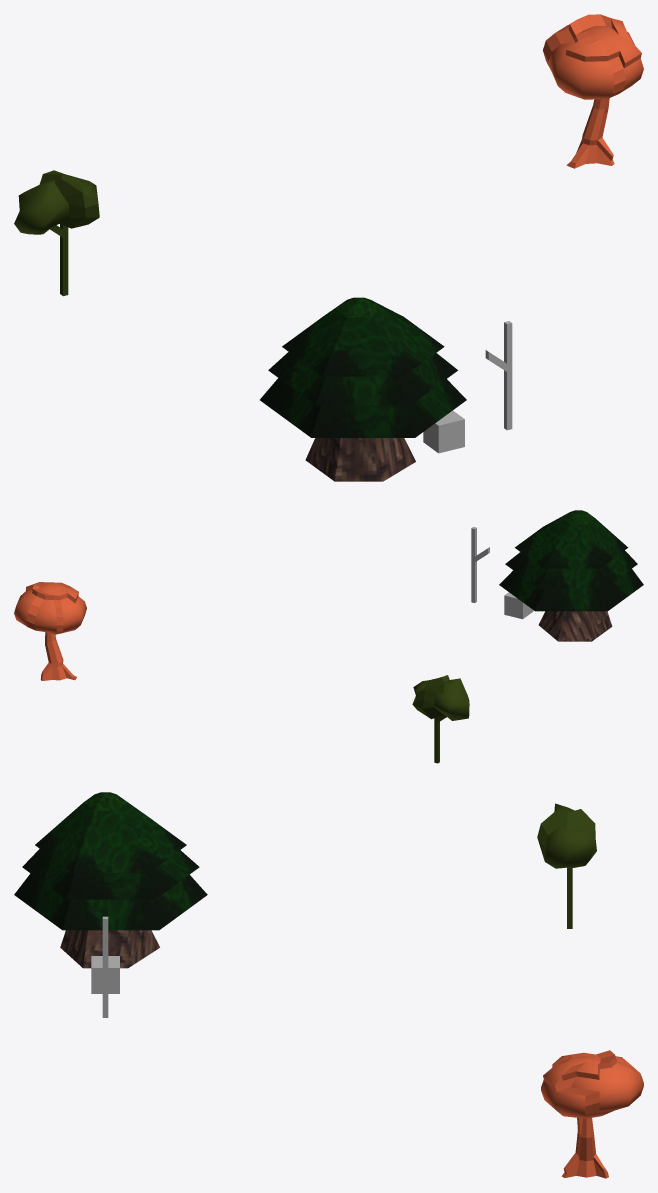
Rendered from low-poly-tree.fbx.
3 views of the same model, one above another, from view 1: azimuth 30°, elevation 25°; view 2: azimuth 150°, elevation 25°; view 3: azimuth 270°, elevation 25° (orthographic). The views are drawn at different scales.
Visible parts, largest first — view 1: Tree, Merged_Meshes, Merged_Meshes1, Box, Box1; view 2: Tree, Merged_Meshes, Merged_Meshes1, Box1, Box; view 3: Tree, Merged_Meshes, Merged_Meshes1, Box, Box1.
Part boxes in pixels (x1,y1,x2,y2): Tree: (260, 297, 466, 481); Merged_Meshes: (543, 14, 643, 168); Merged_Meshes1: (14, 170, 99, 296); Box: (423, 410, 464, 453); Box1: (485, 321, 512, 430); Tree: (499, 510, 643, 641); Merged_Meshes: (14, 582, 86, 680); Merged_Meshes1: (412, 675, 469, 763); Box1: (471, 527, 489, 602); Box: (504, 592, 533, 619); Tree: (14, 792, 207, 968); Merged_Meshes: (541, 1050, 643, 1178); Merged_Meshes1: (537, 803, 596, 928); Box: (91, 956, 119, 993); Box1: (102, 916, 108, 1017).
Bounding box in the file's own units: 23.87 × 6.06 × 22.07.
Materials: 4 (1 with a texture image).
